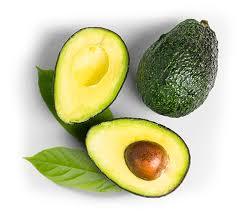aguacate: (133, 14, 221, 122)
